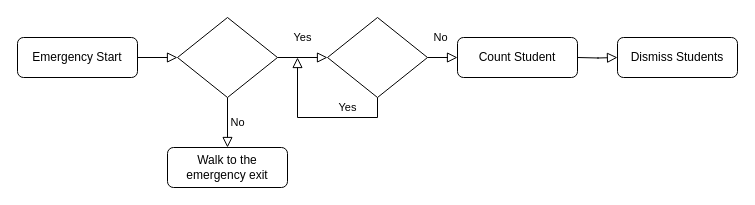
The diagram is 755 pixels wide and 205 high, and some of its shapes have lost their labels. Here are the shapes that lost their labels. From the top down, the centre of each, then its label:
At point 227,57: "Is Teacher or Staff".
At point 377,57: "any more student nearby".
